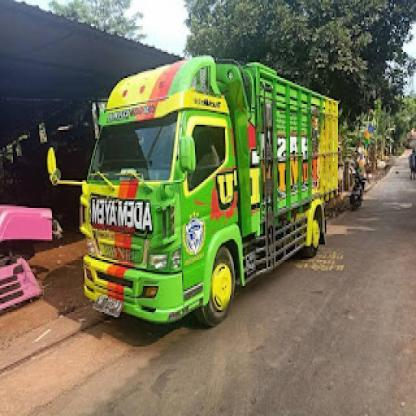truck: (48, 55, 343, 325)
